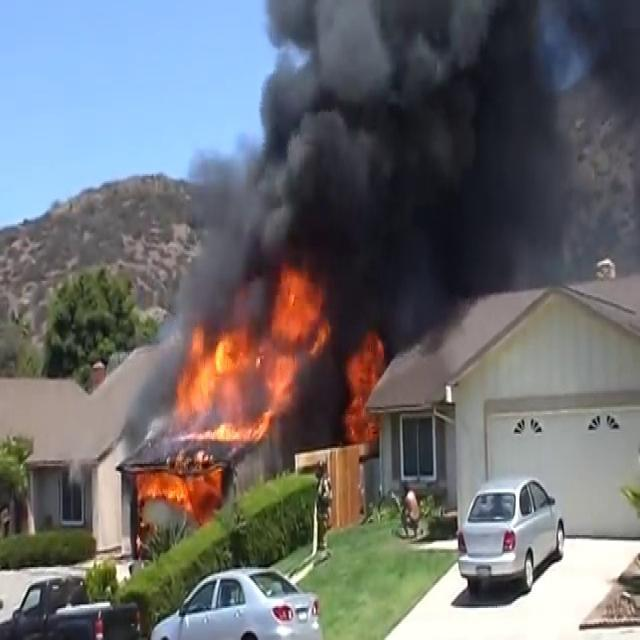Fire: (175, 265, 322, 441), (340, 327, 386, 453), (134, 460, 223, 512)
Smoke: (158, 0, 586, 356)
